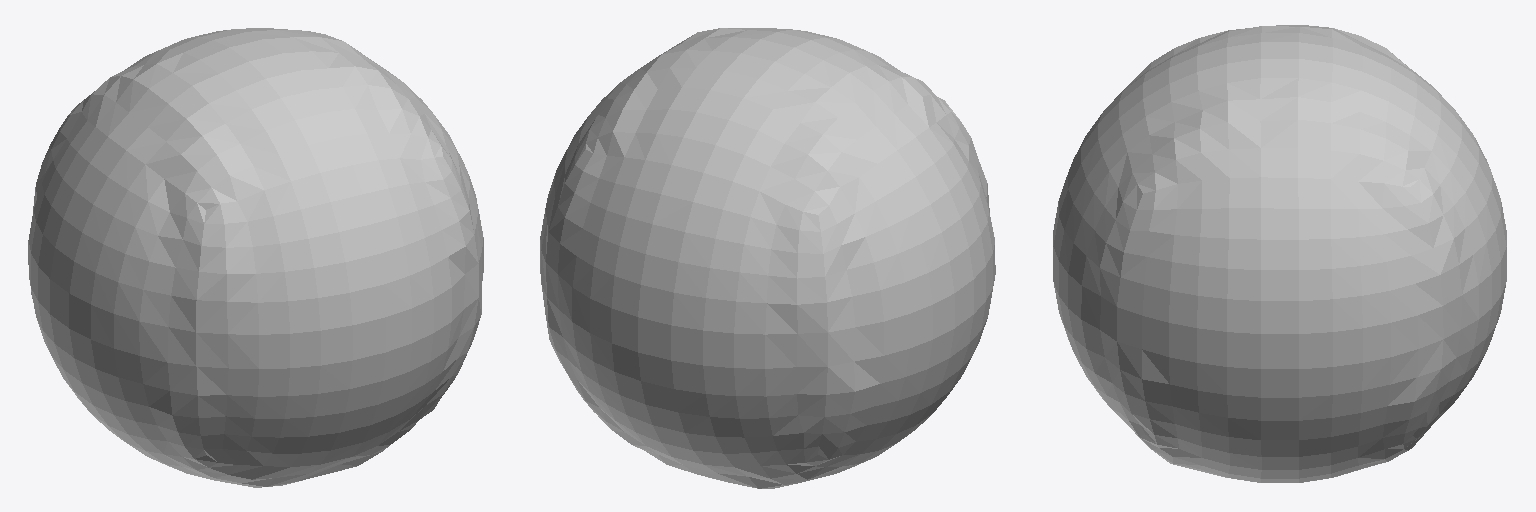
The model's file is Baseball.obj.
3 renders of one model, left to right at view 1: azimuth 30°, elevation 25°; view 2: azimuth 150°, elevation 25°; view 3: azimuth 270°, elevation 25°, orthographic.
Parts seen in each view (by area): view 1: defaultMaterial; view 2: defaultMaterial; view 3: defaultMaterial.
Part boxes in pixels (bbox=[...]): defaultMaterial: bbox=[28, 28, 483, 487]; defaultMaterial: bbox=[540, 28, 995, 488]; defaultMaterial: bbox=[1053, 25, 1506, 482].
Size of the model in its own units: 0.052 by 0.0521 by 0.052.